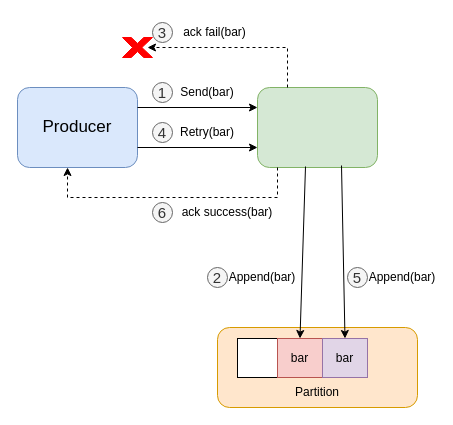
Image size: 453x425. Some labels were removed from this diagram. Here are the shapes that lost their labels. From the top down, the box of each, then its label:
(256, 86, 378, 168): Kafka Broker
(236, 338, 282, 378): foo
